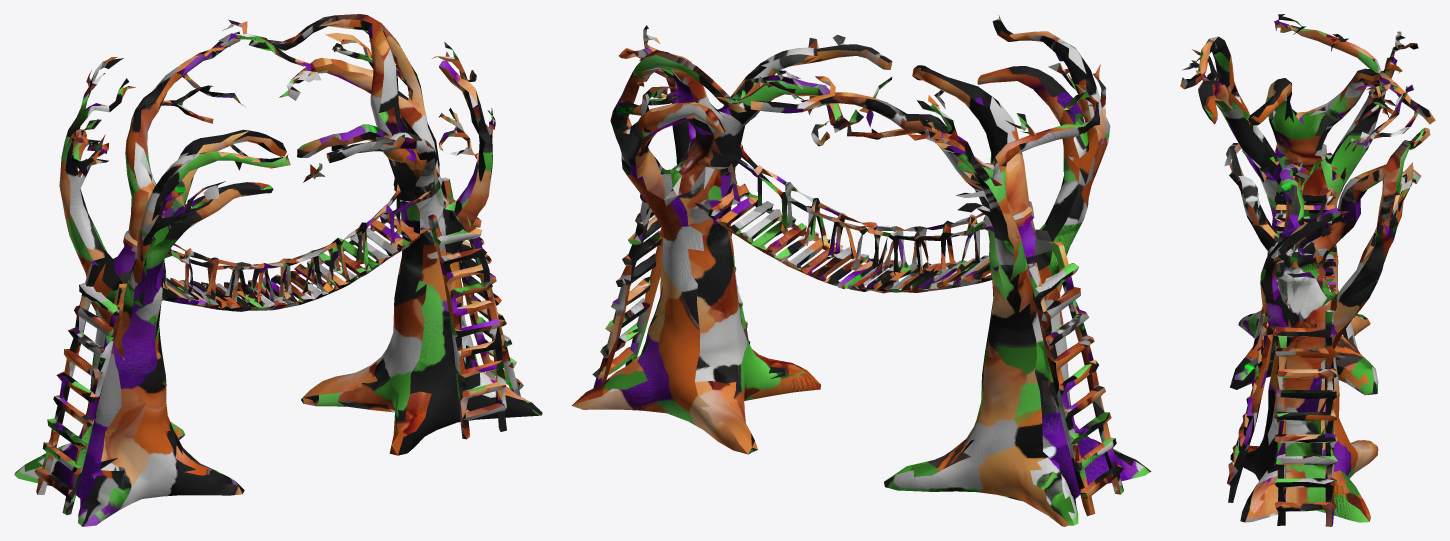
File: Whispering Forest high.fbx
3 views of the same model, side by side, from view 1: azimuth 30°, elevation 25°; view 2: azimuth 150°, elevation 25°; view 3: azimuth 270°, elevation 25° (orthographic). The views are drawn at different scales.
Parts seen in each view (by area): view 1: char1; view 2: char1; view 3: char1.
Part boxes in pixels (x1,y1,x2,y2): char1: (14, 14, 542, 526); char1: (571, 15, 1151, 526); char1: (1180, 14, 1435, 526).
Size of the model in its own units: 20600 by 16337 by 10934.
